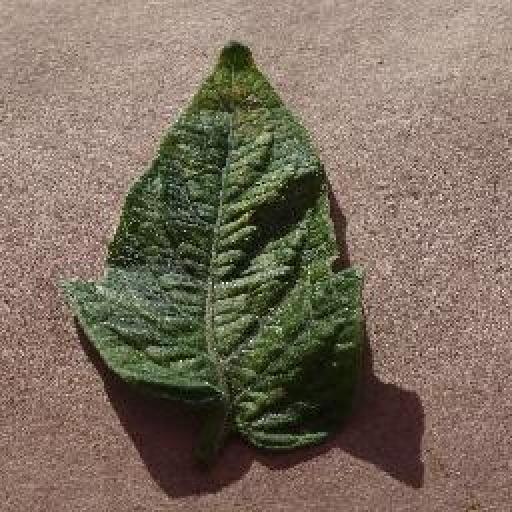disease_tomato: (68, 41, 367, 455)
